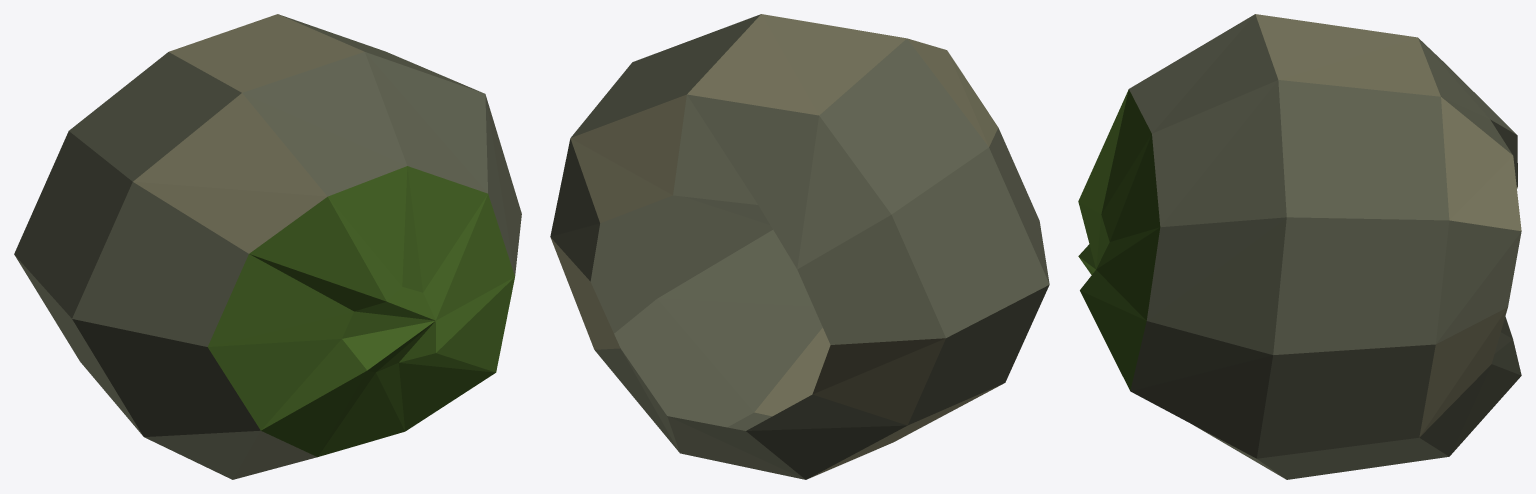
File: SM_ForestCartoonRock_0.obj
3 renders of one model, left to right at view 1: azimuth 30°, elevation 25°; view 2: azimuth 150°, elevation 25°; view 3: azimuth 270°, elevation 25°, orthographic.
Visible parts, largest first — view 1: SM_ForestCartoonRock_0; view 2: SM_ForestCartoonRock_0; view 3: SM_ForestCartoonRock_0.
Boxes of the visible parts, x1=… form: SM_ForestCartoonRock_0: x1=14, y1=14, x2=521, y2=479; SM_ForestCartoonRock_0: x1=550, y1=14, x2=1049, y2=479; SM_ForestCartoonRock_0: x1=1078, y1=14, x2=1521, y2=479.
Bounding box in the file's own units: 143 × 122 × 123.
